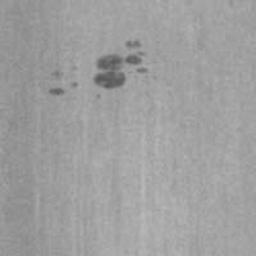Oil spot: (93, 38, 150, 91), (47, 87, 67, 96), (49, 70, 65, 81), (72, 81, 81, 91), (92, 93, 104, 100)
